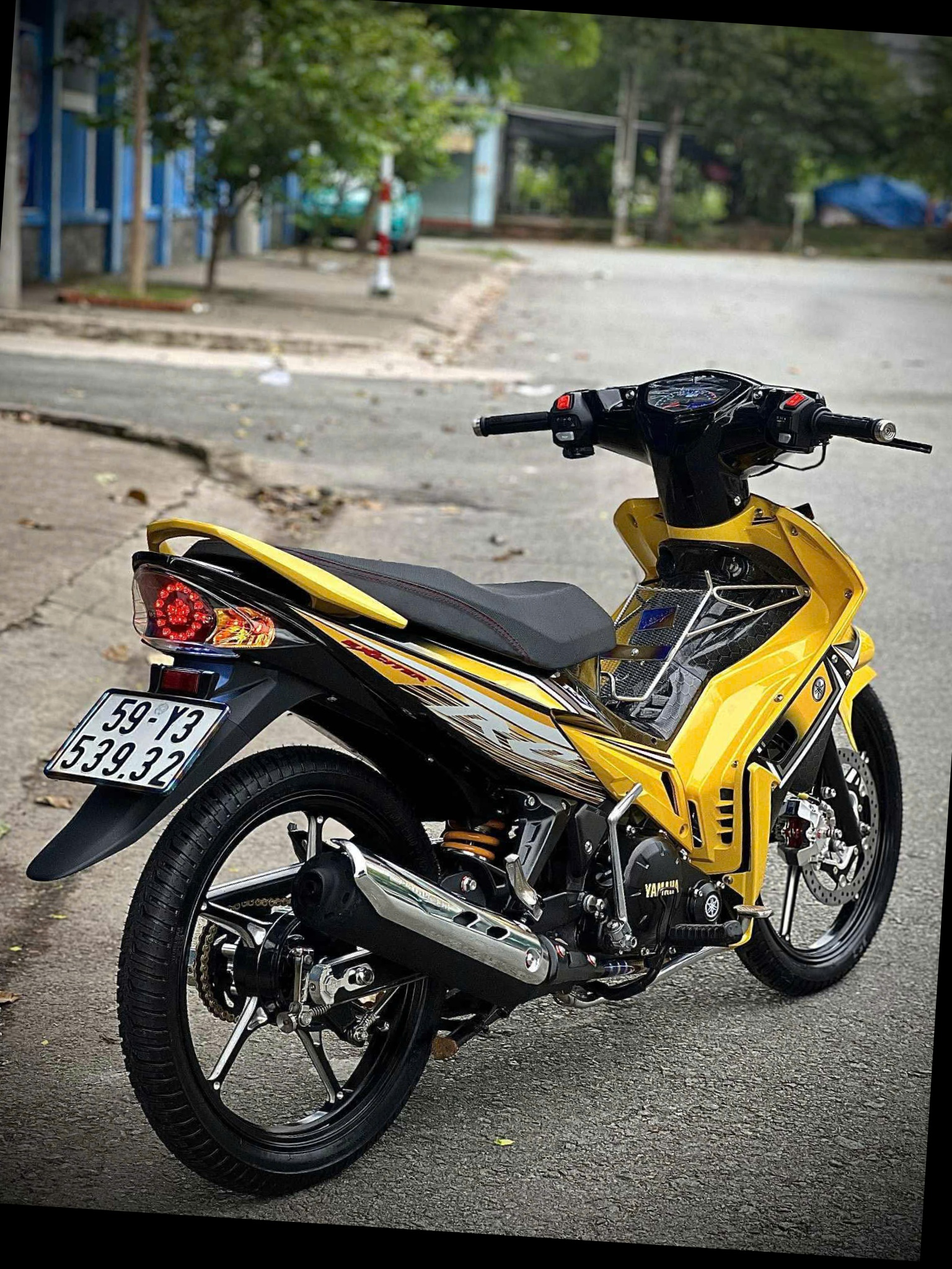Bien-so: (44, 685, 233, 797)
